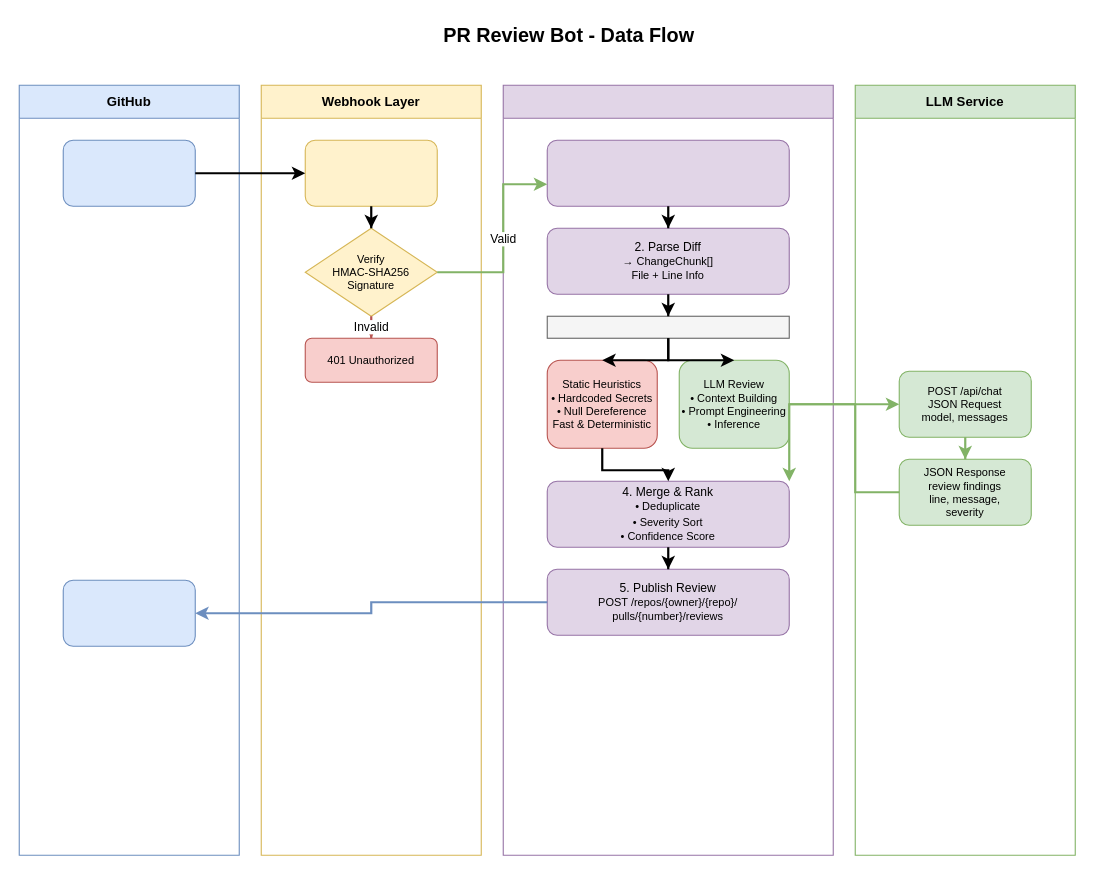
The diagram is 1095 pixels wide and 875 high, and some of its shapes have lost their labels. The box of each missing label's shape, as (x1, y1, x2, y2) in pixels:
1. Fetch PR Context • Metadata • Unified Diff: (546, 139, 789, 206)
3. Parallel Analysis: (546, 315, 789, 338)
PR Opened | PR Updated | PR Reopened: (62, 139, 195, 206)
PR Review Comments Check Status: (62, 579, 195, 646)
Processing Pipeline: (502, 84, 833, 855)
Webhook Payload action, repo, PR#, installation_id: (304, 139, 437, 206)
